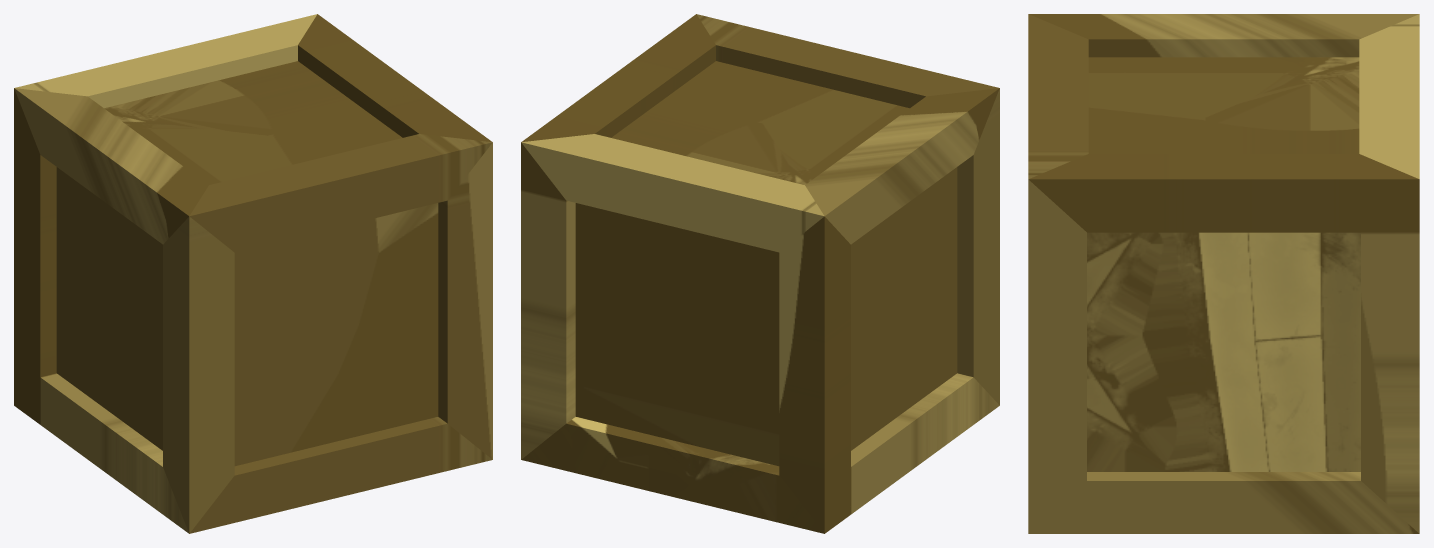
3 renders of one model, left to right at view 1: azimuth 30°, elevation 25°; view 2: azimuth 150°, elevation 25°; view 3: azimuth 270°, elevation 25°, orthographic. The views are drawn at different scales.
Visible parts, largest first — view 1: Wooden box; view 2: Wooden box; view 3: Wooden box.
Boxes of the visible parts, x1,y1,x2,y2 form: Wooden box: (14, 14, 492, 533); Wooden box: (521, 14, 999, 533); Wooden box: (1028, 14, 1419, 533).
Size of the model in its own units: 78.34 by 78.34 by 78.34.
